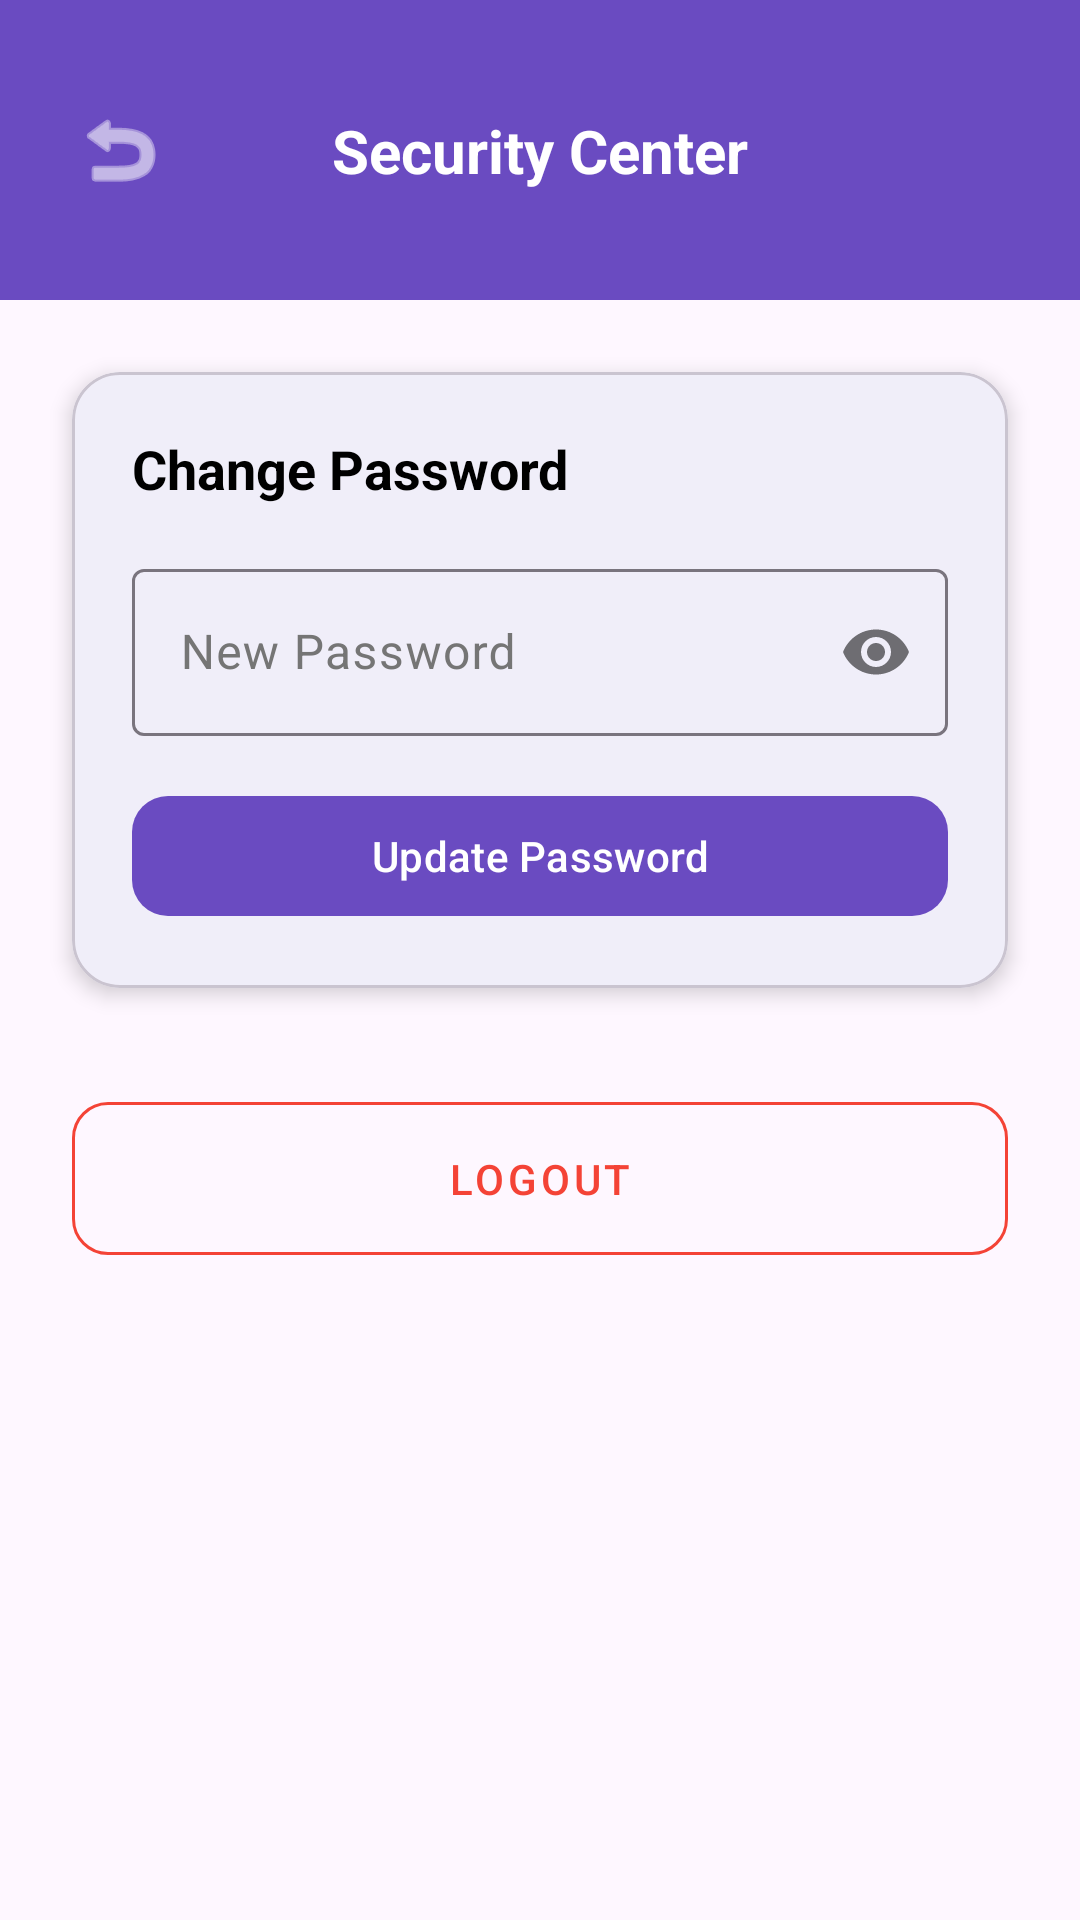

Screen size 1080px x 1920px. Icon name, then its center in pixels as point (x, y):
revert: point (121, 150)
